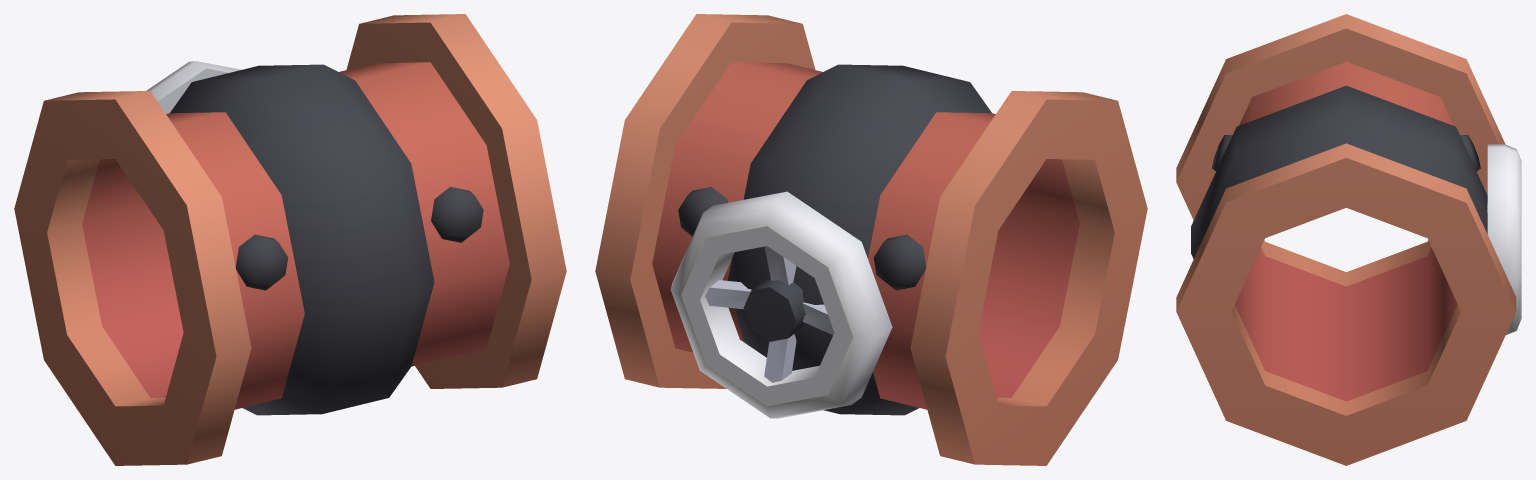
Rendered from pipe-large-valve.obj.
3 renders of one model, left to right at view 1: azimuth 30°, elevation 25°; view 2: azimuth 150°, elevation 25°; view 3: azimuth 270°, elevation 25°, orthographic. The views are drawn at different scales.
Visible parts, largest first — view 1: pipe-large-valve; view 2: pipe-large-valve; view 3: pipe-large-valve.
Boxes of the visible parts, bbox=[...] form: pipe-large-valve: bbox=[14, 14, 566, 465]; pipe-large-valve: bbox=[595, 14, 1147, 465]; pipe-large-valve: bbox=[1176, 14, 1521, 465].
Bounding box in the file's own units: 1 × 1 × 1.02.
